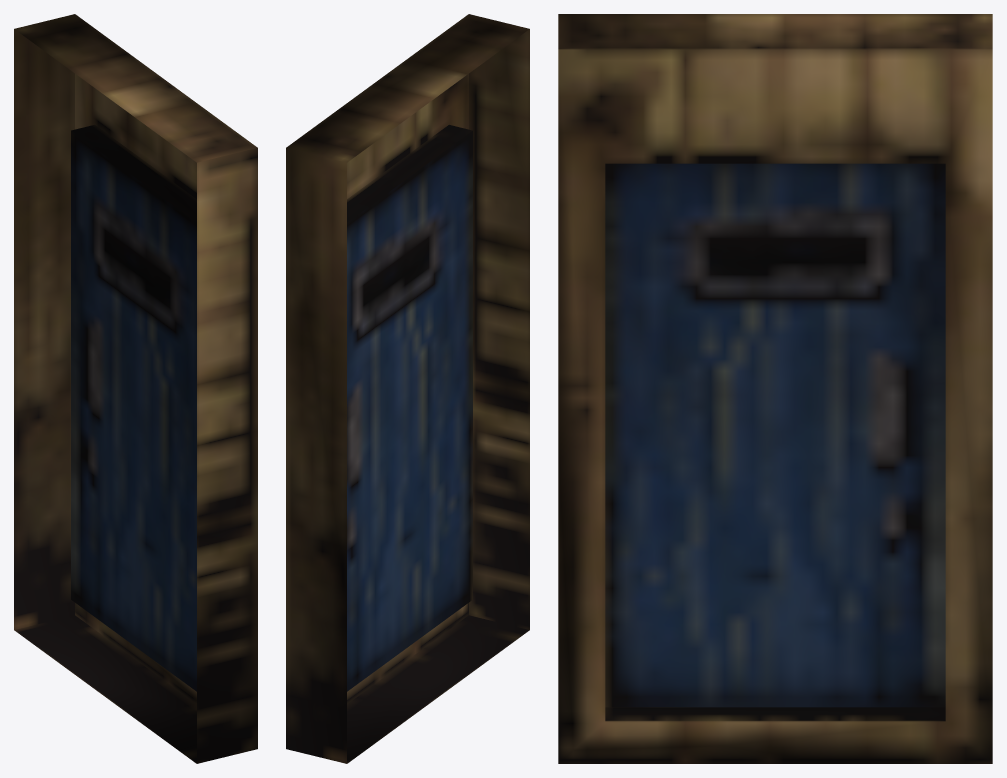
Rendered from HouseDoor2.fbx.
3 renders of one model, left to right at view 1: azimuth 30°, elevation 25°; view 2: azimuth 150°, elevation 25°; view 3: azimuth 270°, elevation 25°, orthographic. The views are drawn at different scales.
Parts seen in each view (by area): view 1: HouseDoor.001; view 2: HouseDoor.001; view 3: HouseDoor.001.
Boxes of the visible parts, x1=… form: HouseDoor.001: x1=14, y1=14, x2=257, y2=763; HouseDoor.001: x1=286, y1=14, x2=529, y2=763; HouseDoor.001: x1=558, y1=14, x2=992, y2=763.
Size of the model in its own units: 41.11 by 387 by 213.
